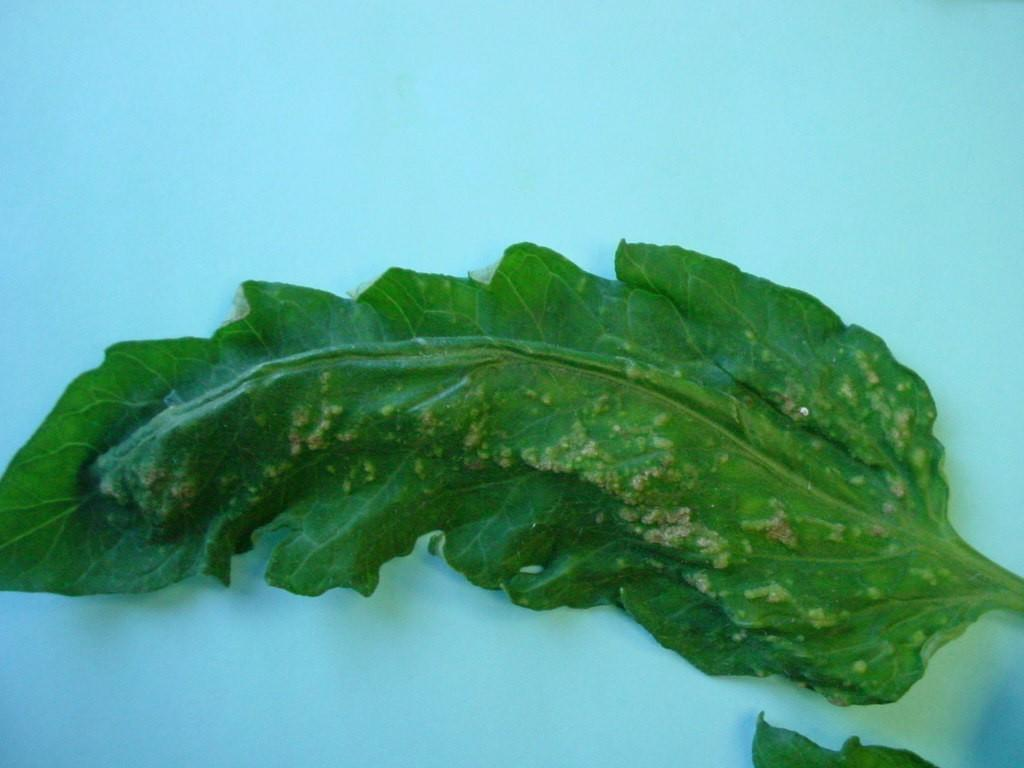Tomato mold leaf: (7, 188, 1023, 724)
